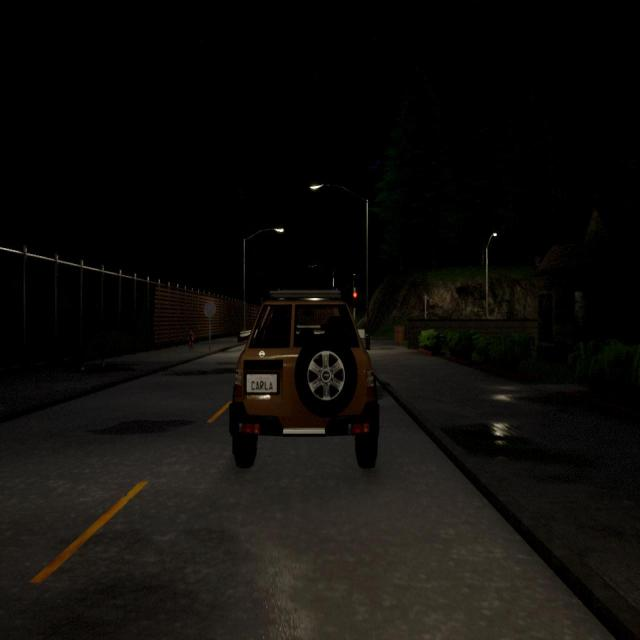Pedestrian: (188, 329, 194, 349)
Traffic_Signs: (204, 301, 216, 317)
Vehicle: (229, 289, 378, 467)
traffic_light: (352, 292, 358, 307), (426, 300, 429, 312)
